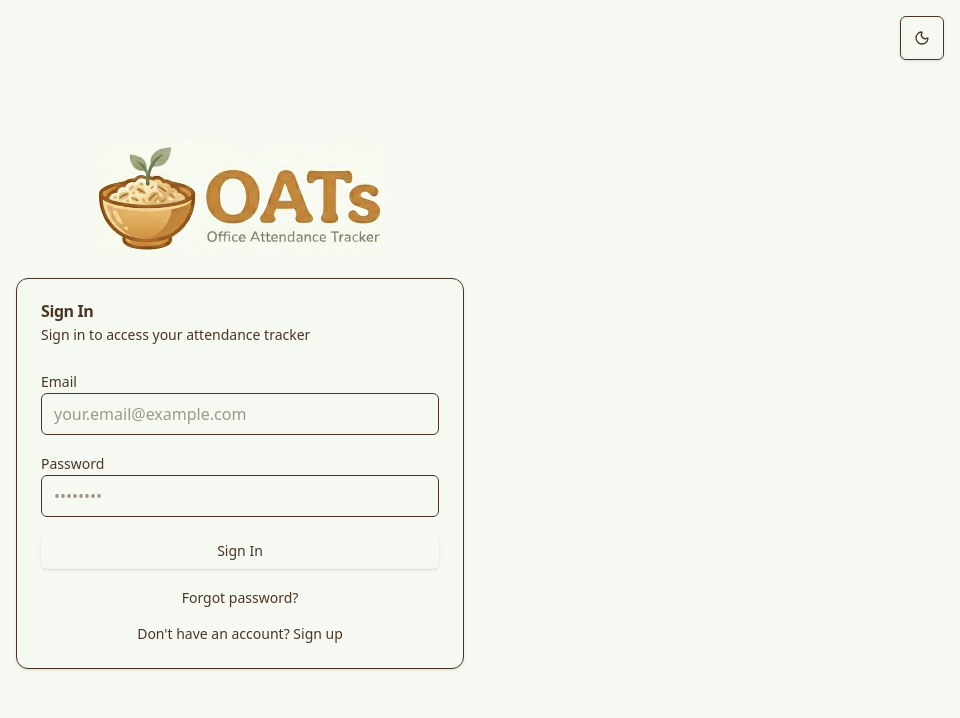
Test: LoginPage › Sign In › should show error for invalid credentials
In the field labelled "Email": (240, 414) top-left (41, 392), bottom-right (439, 434), type "test@example.com"
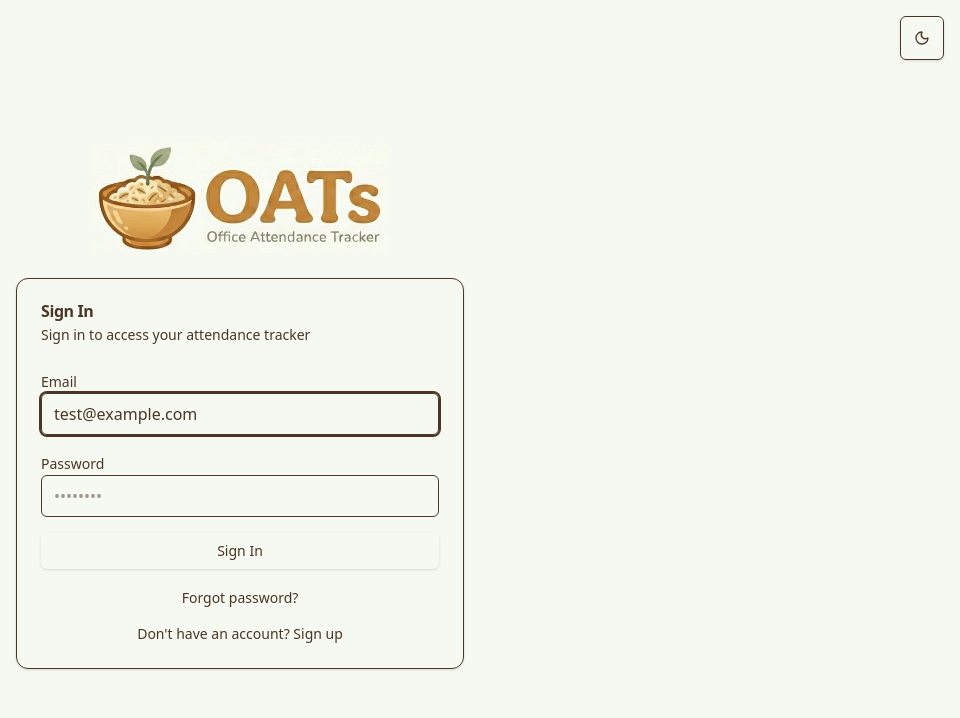
In the password field labelled "Password": (240, 496) top-left (41, 474), bottom-right (439, 516), type "wrongpassword"
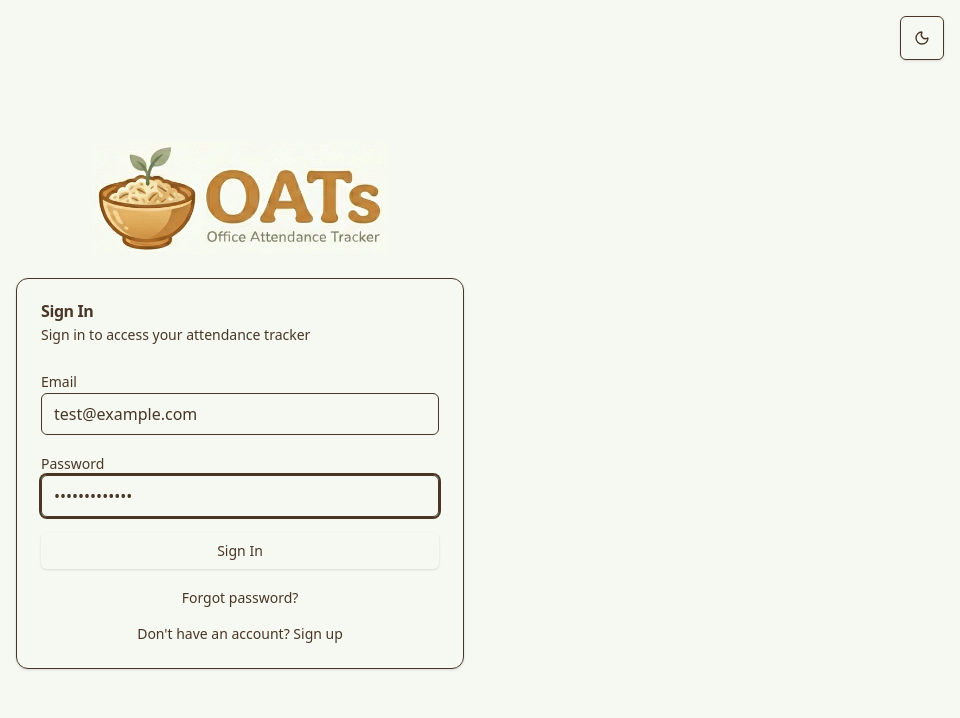
Click the button "Sign In": (240, 550) top-left (41, 532), bottom-right (439, 568)
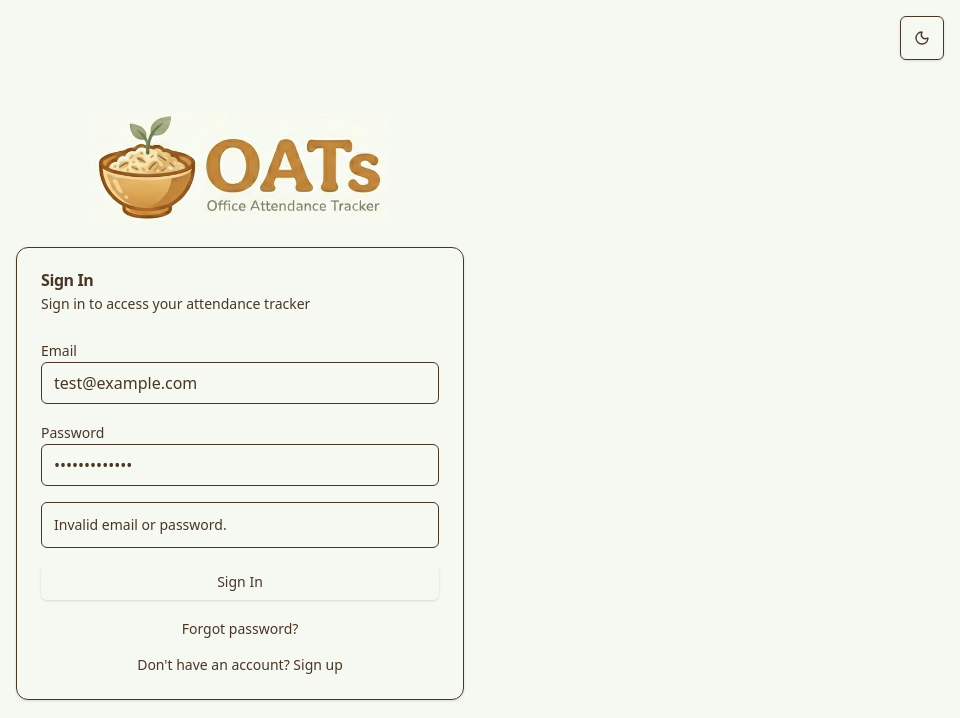
Result: the text "Invalid email or password." is shown at top-left (41, 502), bottom-right (439, 548)
